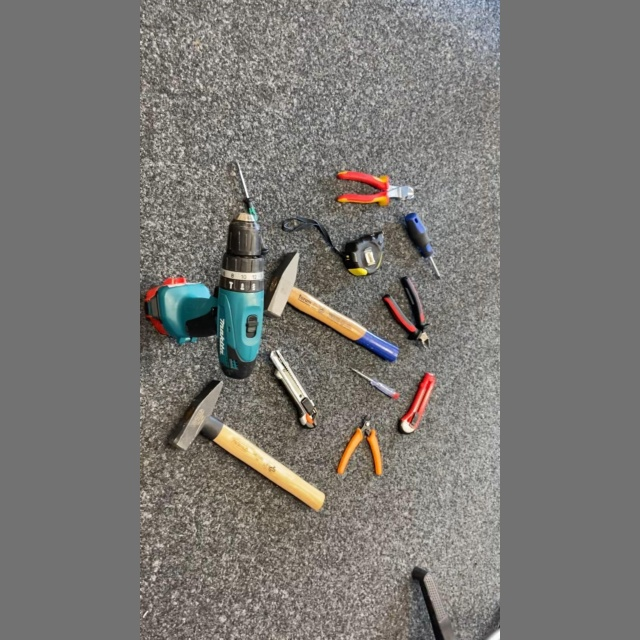drill: (141, 210, 268, 382)
screwdriver: (233, 157, 271, 256), (402, 210, 445, 282), (346, 363, 403, 402)
